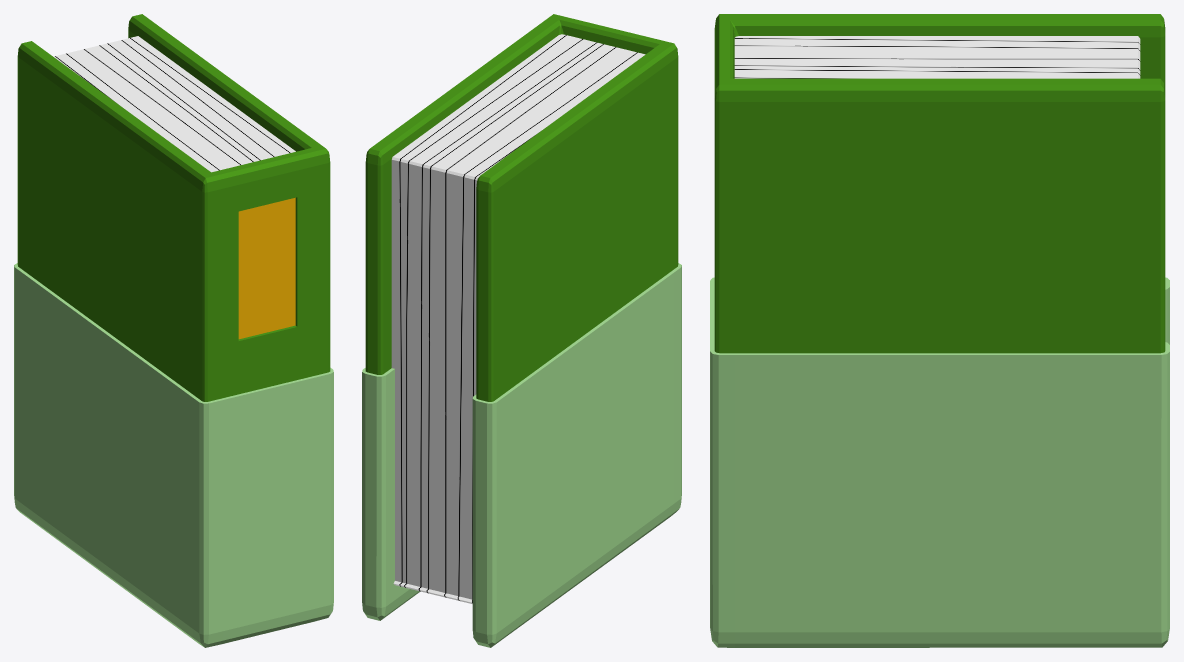
The model's file is Book_4.fbx.
The picture shows the model from 3 angles, left to right: view 1: azimuth 30°, elevation 25°; view 2: azimuth 150°, elevation 25°; view 3: azimuth 270°, elevation 25°; orthographic projection. The views are drawn at different scales.
Visible parts, largest first — view 1: Cube.006; view 2: Cube.006; view 3: Cube.006.
Part boxes in pixels (box(x1,y1,x2,y2)): Cube.006: box(14, 14, 333, 647); Cube.006: box(362, 14, 681, 647); Cube.006: box(710, 14, 1169, 647).
Size of the model in its own units: 196 by 656 by 485.
